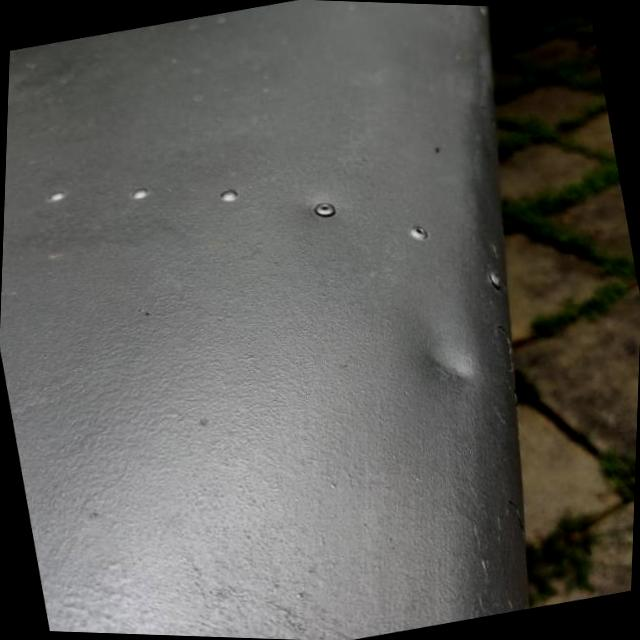dent: (406, 314, 488, 405)
